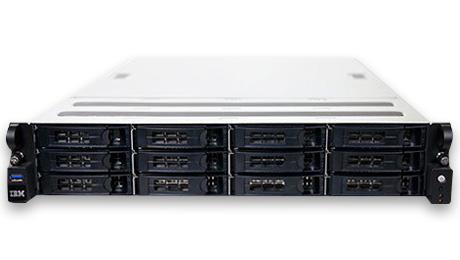ibm-server: (3, 49, 456, 209), (1, 116, 456, 210)
